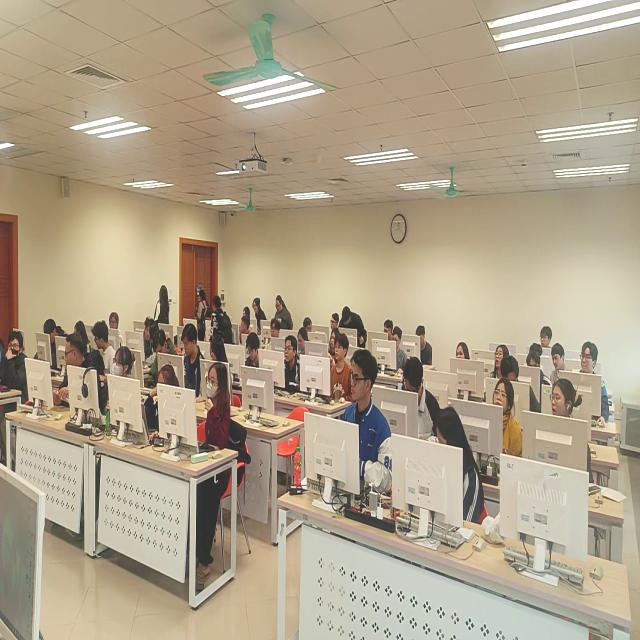raise_head: (545, 380, 594, 486), (482, 381, 524, 471), (197, 363, 232, 469), (575, 337, 611, 428), (1, 333, 34, 412), (102, 351, 135, 428), (325, 336, 355, 409), (279, 338, 304, 395), (489, 343, 511, 382), (452, 341, 472, 375), (265, 318, 282, 355), (109, 311, 123, 347), (324, 328, 340, 359), (540, 327, 554, 353), (327, 311, 341, 336)
stand: (343, 302, 369, 361), (211, 294, 231, 355), (156, 282, 172, 342), (276, 293, 292, 345), (251, 295, 266, 341), (198, 288, 210, 345)
using_computer: (392, 359, 442, 456), (142, 365, 185, 448), (140, 329, 180, 396), (503, 358, 539, 418), (176, 327, 208, 393), (40, 316, 71, 369), (382, 327, 409, 381), (407, 326, 435, 369), (238, 335, 262, 385), (526, 350, 548, 403), (297, 327, 310, 356)
